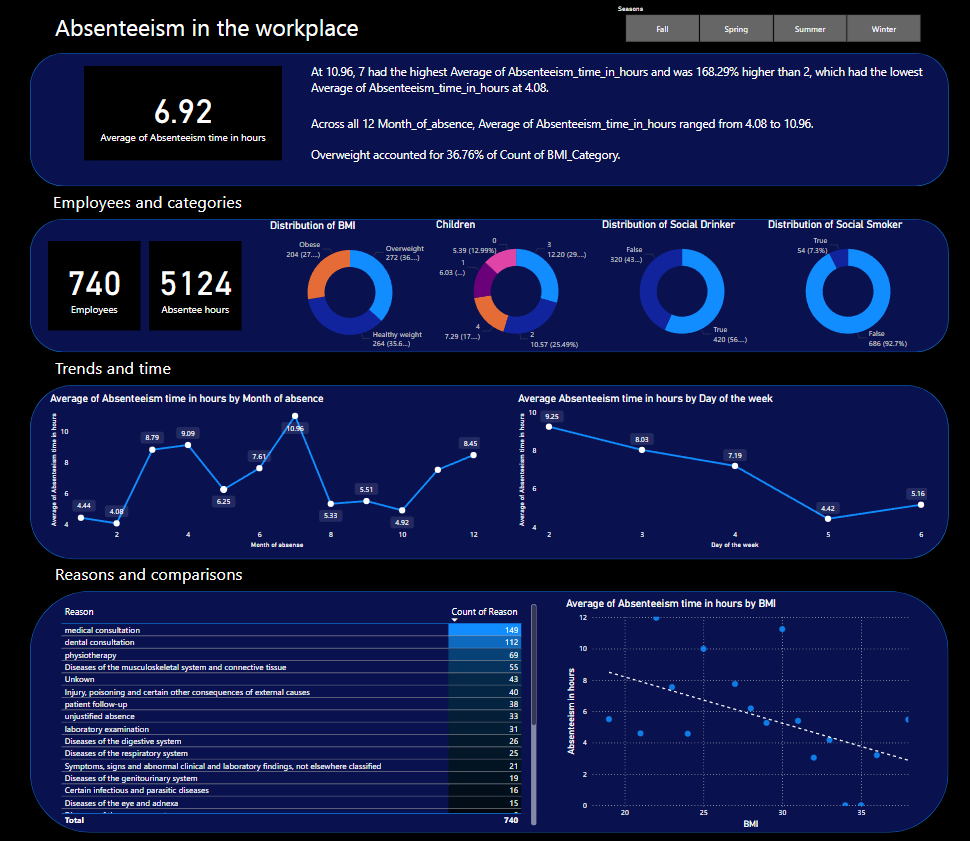

This screenshot's page, from the dashboard's own definition file:
{"tool":"powerbi","page":{"name":"Page 1","canvas":[1580,1370],"ordinal":0},"visuals":[{"type":"shape","box":[0,0,1578.8,1370],"z":0},{"type":"shape","box":[50,959.3,1489.1,391.7],"z":1000},{"type":"shape","box":[49.9,88.1,1489.6,216.1],"z":2000},{"type":"shape","box":[49.9,357.4,1489.6,216.1],"z":3000},{"type":"shape","title":"What is the main KPI?","box":[49.9,625.1,1489.6,282.6],"z":4000},{"type":"donutChart","title":"Children","fields":{"Y":["Avg(Query1.Absenteeism_time_in_hours)"],"Category":["Query1.Son"]},"box":[703.4,355.8,269.4,218.6],"z":5000},{"type":"card","fields":{"Values":["Avg(Query1.Absenteeism_time_in_hours)"]},"box":[138,108.1,320.9,152.9],"z":6000},{"type":"lineChart","title":"Average of Absenteeism time in hours by Month of absence","fields":{"Category":["Query1.Month_of_absence"],"Y":["Avg(Query1.Absenteeism_time_in_hours)"]},"box":[78.1,636.7,706.5,257.7],"z":7000},{"type":"lineChart","title":"Average Absenteeism time in hours by Day of the week","fields":{"Category":["Query1.Day_of_the_week"],"Y":["Avg(Query1.Absenteeism_time_in_hours)"]},"box":[836.2,636.7,673.3,257.7],"z":8000},{"type":"donutChart","title":"Distribution of Social Drinker","fields":{"Category":["Query1.Social_drinker"],"Y":["CountNonNull(Query1.Social_drinker)"]},"box":[972.8,355.8,269.4,218.6],"z":9000},{"type":"donutChart","title":"Distribution of Social Smoker","fields":{"Category":["Query1.Social_smoker"],"Y":["CountNonNull(Query1.Social_smoker)"]},"box":[1242.2,355.8,269.4,218.6],"z":10000},{"type":"donutChart","title":"Distribution of BMI","fields":{"Category":["Query1.BMI_Category"],"Y":["CountNonNull(Query1.BMI_Category)"]},"box":[434.8,357.2,269.2,219.1],"z":11000},{"type":"card","fields":{"Values":["CountNonNull(Query1.Age)"]},"box":[79.8,392.3,149.6,144.6],"z":12000},{"type":"card","fields":{"Values":["Sum(Query1.Absenteeism_time_in_hours)"]},"box":[242.7,392.3,149.6,144.6],"z":13000},{"type":"textbox","box":[500.4,100.1,1016.3,193.2],"z":14000},{"type":"tableEx","fields":{"Values":["Query1.Reason","CountNonNull(Query1.Reason)"]},"box":[96.4,975.5,781.4,369.1],"z":15000},{"type":"scatterChart","title":"Average of Absenteeism time in hours by BMI","fields":{"X":["Query1.Body_mass_index"],"Y":["Avg(Query1.Absenteeism_time_in_hours)"]},"box":[914.3,968.9,571.9,380.7],"z":16000},{"type":"slicer","fields":{"Values":["Query1.Season_names"]},"box":[990.8,5,527,71.5],"z":17000},{"type":"textbox","box":[86.3,13.8,529.7,62.1],"z":18000},{"type":"textbox","box":[83.1,304.2,530.3,51.5],"z":18001},{"type":"textbox","box":[86.3,574.6,529.7,51.8],"z":18002},{"type":"textbox","box":[86.3,907.6,529.7,51.8],"z":18003}]}

Visuals, with their boxes in screenshot pixels (x1, y1, x2, y2), scaled from the page's 1580x1370 canvas onto the 970x841 screenshot:
shape: x1=0, y1=0, x2=969, y2=840
shape: x1=31, y1=589, x2=945, y2=829
shape: x1=31, y1=54, x2=945, y2=187
shape: x1=31, y1=219, x2=945, y2=352
"What is the main KPI?" shape: x1=31, y1=384, x2=945, y2=557
"Children" donutChart: x1=432, y1=218, x2=597, y2=353
card - Avg(Query1.Absenteeism_time_in_hours): x1=85, y1=66, x2=282, y2=160
"Average of Absenteeism time in hours by Month of absence" lineChart: x1=48, y1=391, x2=482, y2=549
"Average Absenteeism time in hours by Day of the week" lineChart: x1=513, y1=391, x2=927, y2=549
"Distribution of Social Drinker" donutChart: x1=597, y1=218, x2=763, y2=353
"Distribution of Social Smoker" donutChart: x1=763, y1=218, x2=928, y2=353
"Distribution of BMI" donutChart: x1=267, y1=219, x2=432, y2=354
card - CountNonNull(Query1.Age): x1=49, y1=241, x2=141, y2=330
card - Sum(Query1.Absenteeism_time_in_hours): x1=149, y1=241, x2=241, y2=330
textbox: x1=307, y1=61, x2=931, y2=180
tableEx - Query1.Reason x CountNonNull(Query1.Reason): x1=59, y1=599, x2=539, y2=825
"Average of Absenteeism time in hours by BMI" scatterChart: x1=561, y1=595, x2=912, y2=828
slicer - Query1.Season_names: x1=608, y1=3, x2=932, y2=47
textbox: x1=53, y1=8, x2=378, y2=47
textbox: x1=51, y1=187, x2=377, y2=218
textbox: x1=53, y1=353, x2=378, y2=385
textbox: x1=53, y1=557, x2=378, y2=589
